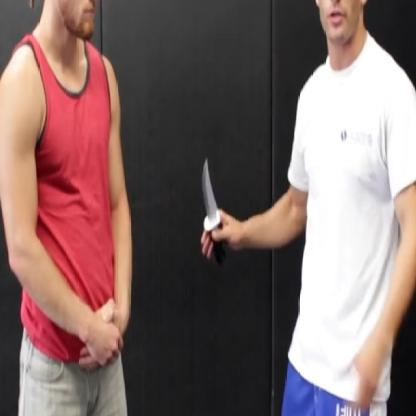knife: (189, 139, 237, 276)
